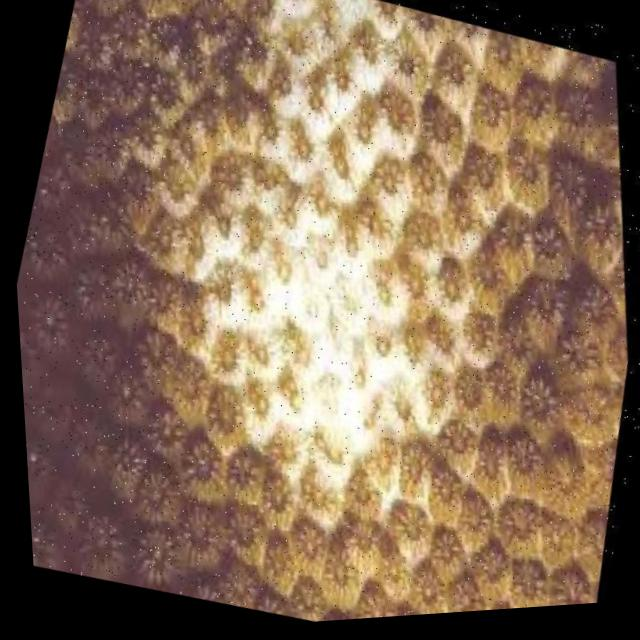Bleached Coral: (89, 0, 567, 581)
